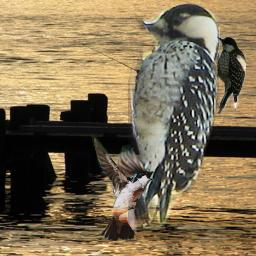Swallow: (90, 133, 155, 241)
Woodpecker: (128, 2, 220, 229), (216, 36, 246, 114)
